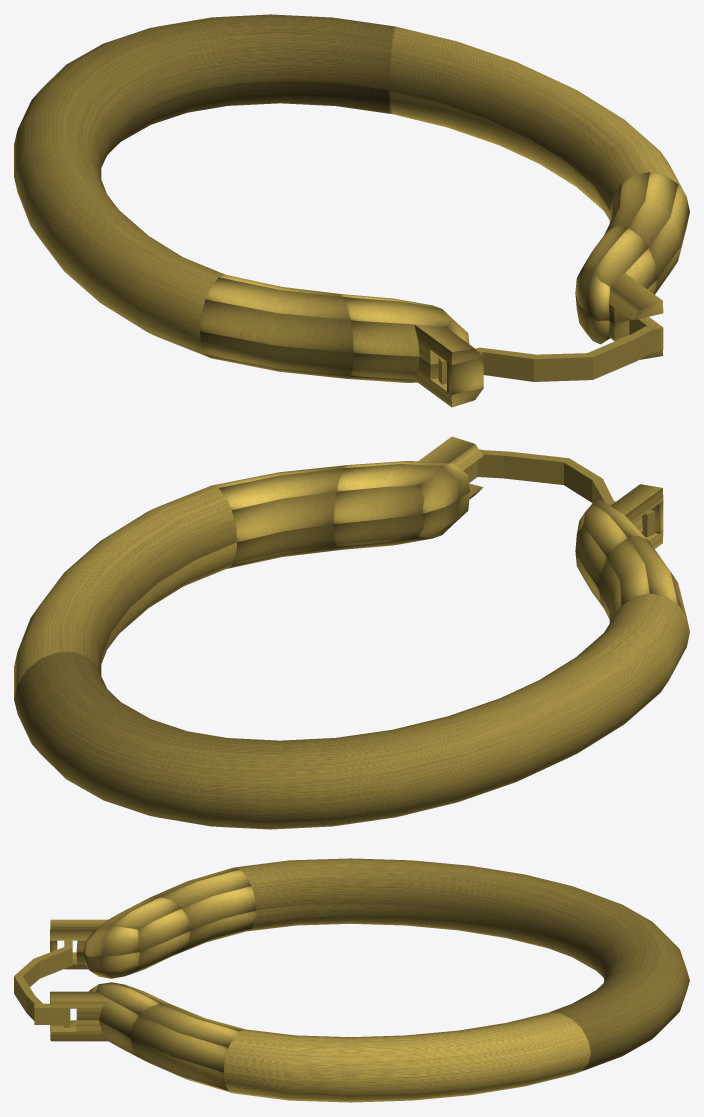
Rendered from alisonearring.fbx.
3 views of the same model, one above another, from view 1: azimuth 30°, elevation 25°; view 2: azimuth 150°, elevation 25°; view 3: azimuth 270°, elevation 25° (orthographic). The views are drawn at different scales.
Visible parts, largest first — view 1: pTorus1; view 2: pTorus1; view 3: pTorus1.
Part boxes in pixels (box(x1,y1,x2,y2)): pTorus1: box(14, 14, 689, 407); pTorus1: box(14, 436, 689, 829); pTorus1: box(14, 858, 689, 1102).
Bounding box in the file's own units: 0.3447 × 0.0475 × 0.482.
Materials: 1 (1 with a texture image).
